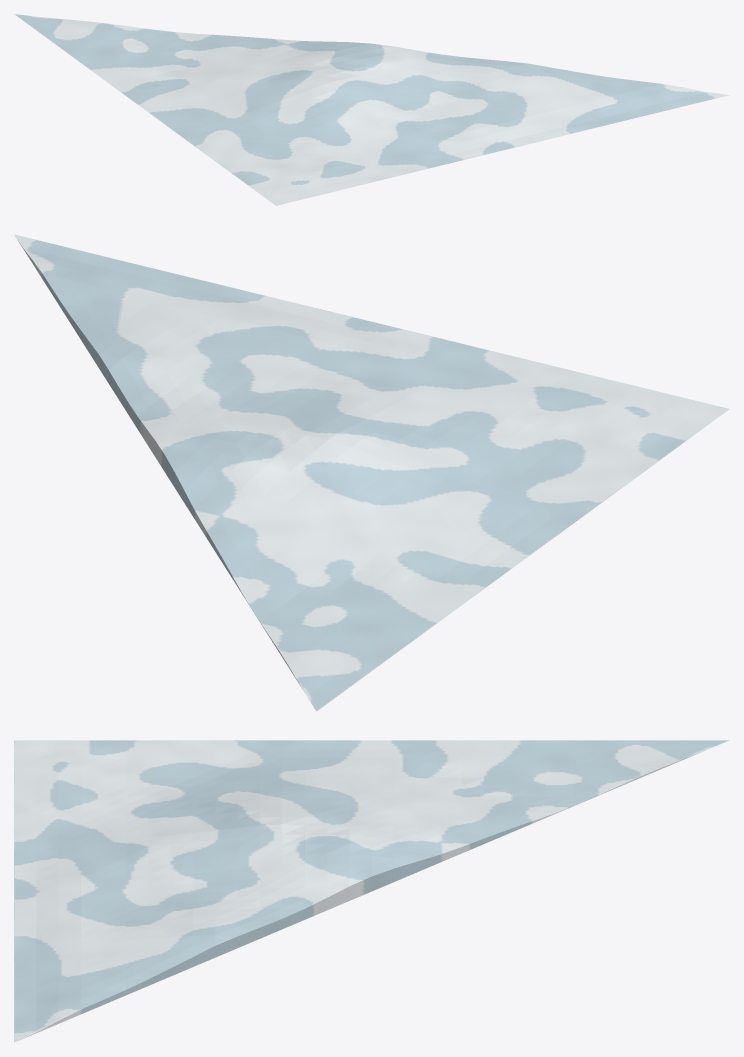
The model's file is Snow_Flat_08_NW.obj.
3 renders of one model, top to bottom at view 1: azimuth 30°, elevation 25°; view 2: azimuth 150°, elevation 25°; view 3: azimuth 270°, elevation 25°, orthographic. The views are drawn at different scales.
Bounding box in the file's own units: 10 × 0.3075 × 10.
Materials: 1 (1 with a texture image).
